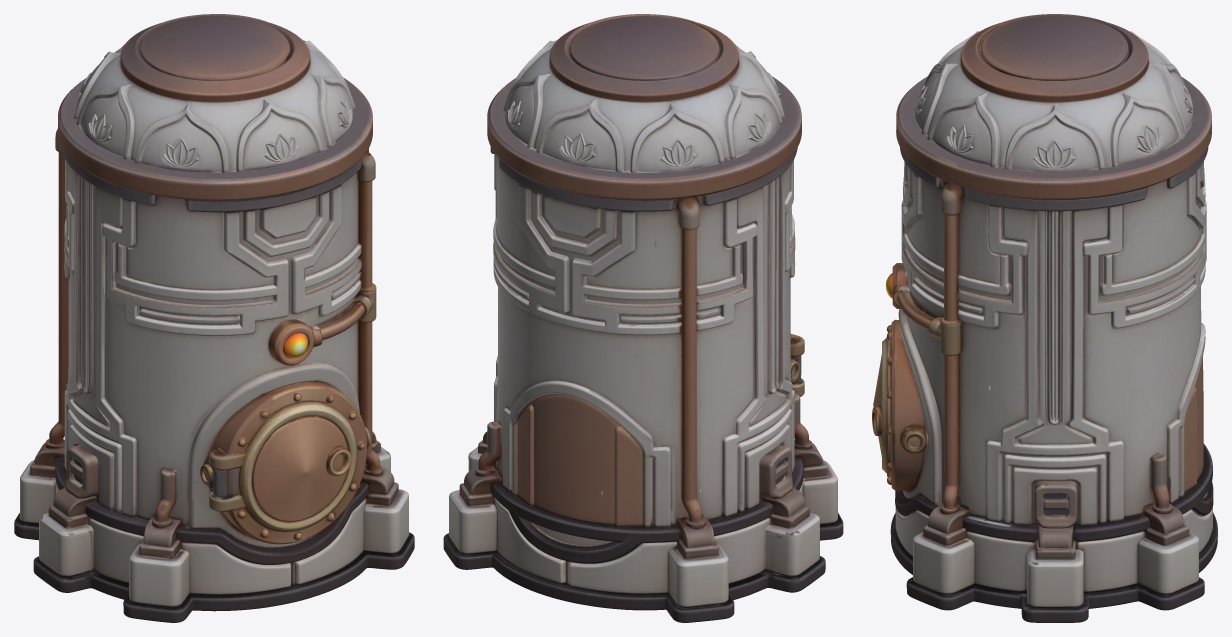
Rendered from storage_silo.glb.
The picture shows the model from 3 angles, left to right: view 1: azimuth 30°, elevation 25°; view 2: azimuth 150°, elevation 25°; view 3: azimuth 270°, elevation 25°; orthographic projection.
Visible parts, largest first — view 1: node_0; view 2: node_0; view 3: node_0.
Part boxes in pixels (bbox=[...]): node_0: bbox=[14, 14, 414, 622]; node_0: bbox=[443, 14, 843, 622]; node_0: bbox=[872, 14, 1217, 622].
Size of the model in its own units: 0.6747 by 0.9727 by 0.5972.
1 material, 1 textured.
